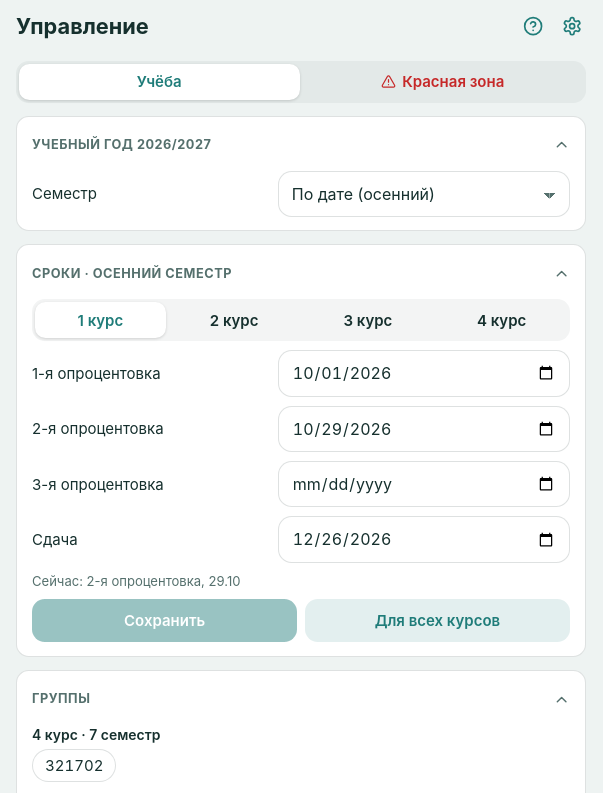
it: администратор › сроки сохраняются для выбранного курса; поля дат — в пределах семестра
Later steps or results of the test are not shown.
Click the tab "3 курс" at (368, 320), box [302,302,433,338]
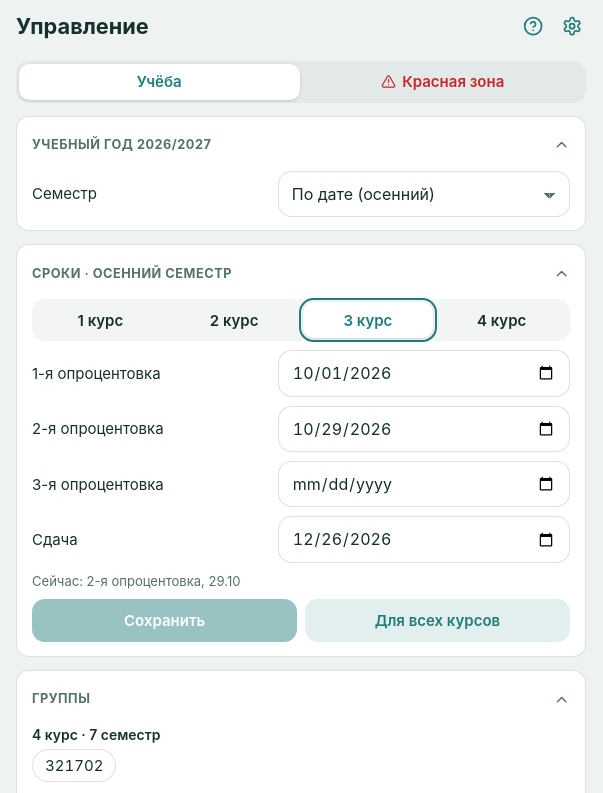
Expected: the button "Сохранить" is disabled, [32,599,297,642]
Result: the tab "3 курс" is selected at [302,302,433,338]
